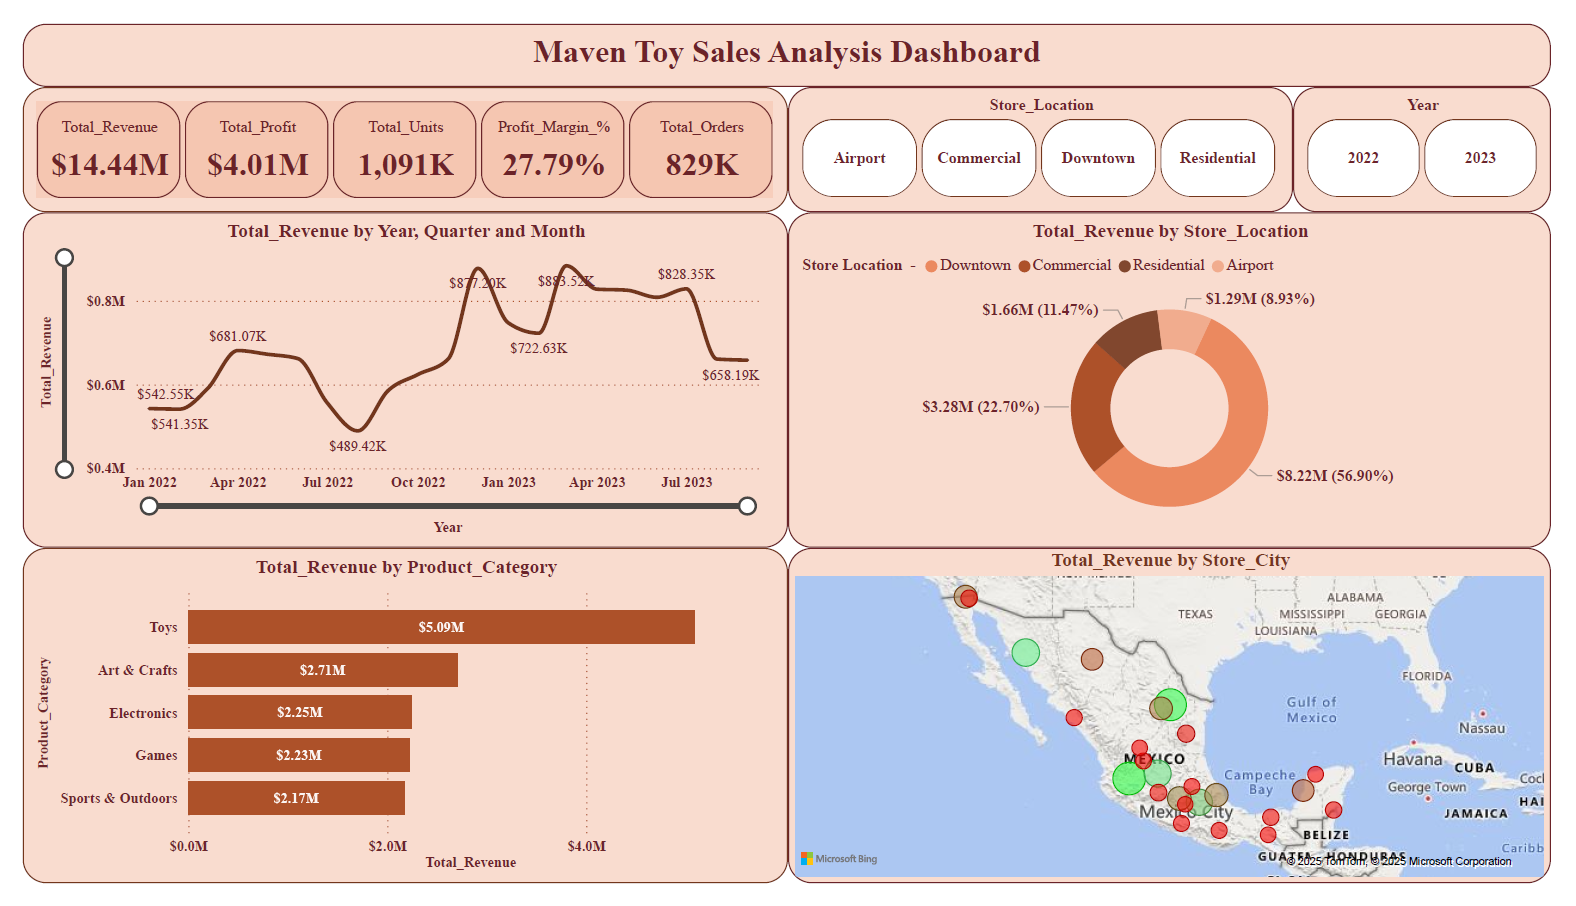

Layout of this report page (visuals, bound fields, positions):
{"tool":"powerbi","page":{"name":"Revenue_Analysis_Dashboard","canvas":[1280,720],"ordinal":0},"visuals":[{"type":"textbox","box":[0,0,1280.3,52.6],"z":0},{"type":"lineChart","fields":{"Category":["sales.Date.Variation.Date Hierarchy.Year","sales.Date.Variation.Date Hierarchy.Quarter","sales.Date.Variation.Date Hierarchy.Month","sales.Date.Variation.Date Hierarchy.Day"],"Y":["Measure.Total_Revenue"]},"box":[0,157.7,640.8,281.3],"z":1000},{"type":"cardVisual","fields":{"Data":["Measure.Total_Revenue","Measure.Total_Profit","Measure.Total_Units_Sales","Measure.Profit_Margin_%","Measure.Order_Count"]},"box":[0,52.6,640.8,105.2],"z":2000},{"type":"advancedSlicerVisual","fields":{"Values":["sales.Year"]},"box":[1063.9,52.6,216.4,105.2],"z":3000},{"type":"clusteredBarChart","fields":{"Category":["products.Product_Category"],"Y":["Measure.Total_Revenue"]},"box":[0,439,640.8,281.3],"z":4000},{"type":"donutChart","fields":{"Category":["stores.Store_Location"],"Y":["Measure.Total_Revenue"]},"box":[640.8,157.7,639.5,281.3],"z":5000},{"type":"advancedSlicerVisual","fields":{"Values":["stores.Store_Location"]},"box":[640.8,52.6,423.1,105.2],"z":6000},{"type":"map","fields":{"Category":["stores.Store_City"],"Size":["Measure.Total_Revenue"]},"box":[640.8,439,639.5,281.3],"z":7000}]}

Visuals, with their boxes in screenshot pixels (x1, y1, x2, y2), scaled from the page's 1280x720 canvas onto the 1576x906 screenshot:
textbox: detection(0, 0, 1575, 66)
lineChart - sales.Date.Variation.Date Hierarchy.Year x sales.Date.Variation.Date Hierarchy.Quarter: detection(0, 198, 789, 552)
cardVisual - Measure.Total_Revenue x Measure.Total_Profit: detection(0, 66, 789, 199)
advancedSlicerVisual - sales.Year: detection(1310, 66, 1575, 199)
clusteredBarChart - products.Product_Category x Measure.Total_Revenue: detection(0, 552, 789, 905)
donutChart - stores.Store_Location x Measure.Total_Revenue: detection(789, 198, 1575, 552)
advancedSlicerVisual - stores.Store_Location: detection(789, 66, 1310, 199)
map - stores.Store_City x Measure.Total_Revenue: detection(789, 552, 1575, 905)
